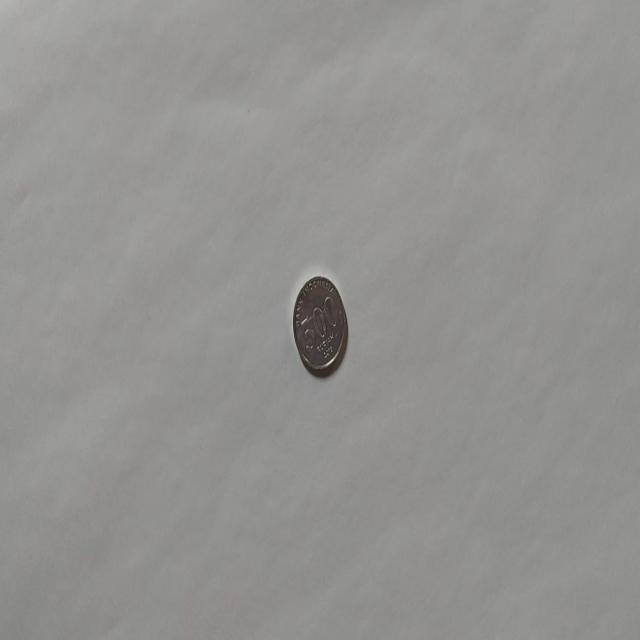lima ratus rupiah: (292, 274, 348, 377)
